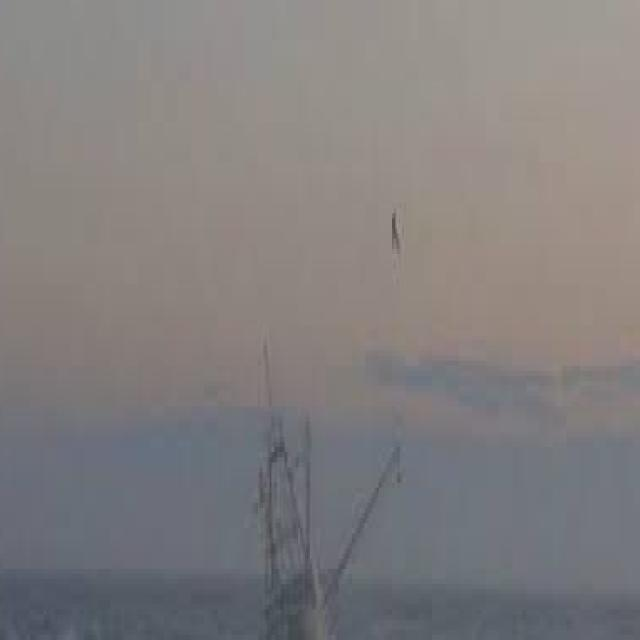fishing boat: (251, 279, 409, 640)
